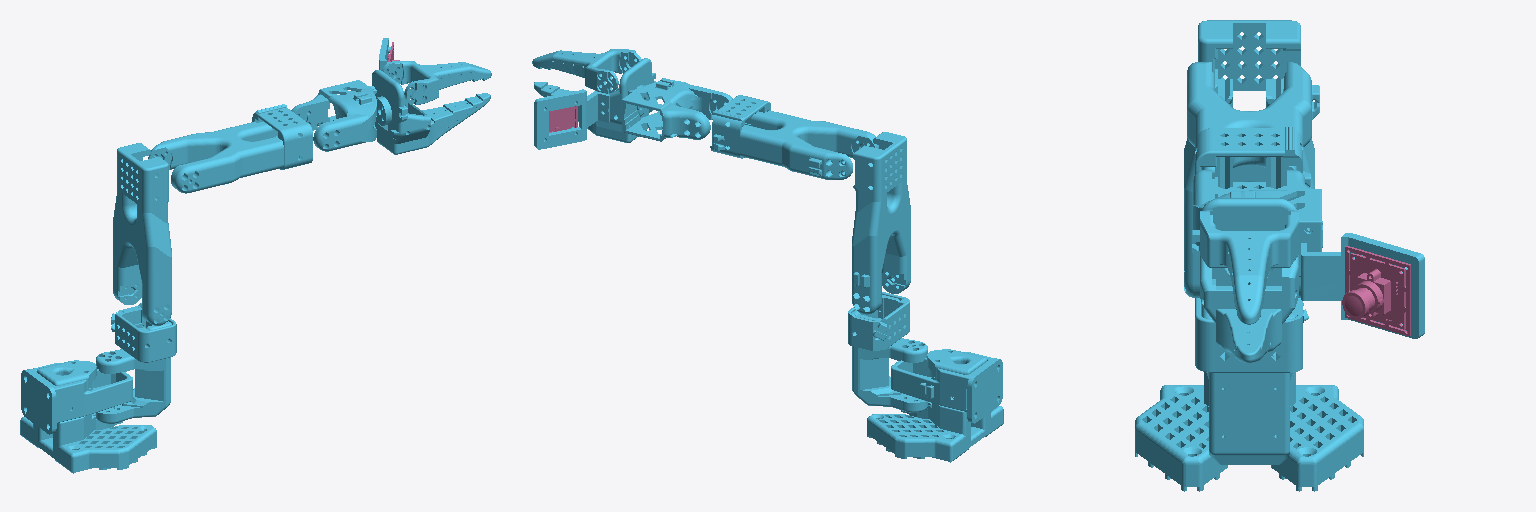
robot.urdf — SO-Arm:
<?xml version="1.0" ?>
<!-- =================================================================================== -->
<!-- |    This document was autogenerated by xacro from robot.xacro                    | -->
<!-- |    EDITING THIS FILE BY HAND IS NOT RECOMMENDED                                 | -->
<!-- =================================================================================== -->
<robot name="SO-Arm">
  <!-- Materials -->
  <material name="3d_printed">
    <color rgba="0.4 0.8196 0.945 1.0"/>
  </material>
  <material name="sts3215">
    <color rgba="0.1 0.1 0.1 1.0"/>
  </material>
  <joint name="base_joint" type="fixed">
    <origin xyz="0 0 0.0025"/>
    <parent link="base_link"/>
    <child link="base"/>
  </joint>
  <link name="base_link"/>
  <link name="base">
    <inertial>
      <origin xyz="-0.01371 0 0.03348"/>
      <mass value="0.147"/>
      <inertia ixx="0.000136117" ixy="4.59787e-07" ixz="9.75275e-08" iyy="0.000114686" iyz="-4.97151e-06" izz="0.000130364"/>
    </inertial>
    <visual>
      <geometry>
        <mesh filename="package://so_arm_description/meshes/so101/base_motor_holder.stl"/>
      </geometry>
      <material name="3d_printed"/>
    </visual>
    <collision>
      <geometry>
        <mesh filename="package://so_arm_description/meshes/so101/base_motor_holder.stl"/>
      </geometry>
    </collision>
    <visual>
      <geometry>
        <mesh filename="package://so_arm_description/meshes/so101/base.stl"/>
      </geometry>
      <material name="3d_printed"/>
    </visual>
    <collision>
      <geometry>
        <mesh filename="package://so_arm_description/meshes/so101/base.stl"/>
      </geometry>
    </collision>
    <visual>
      <geometry>
        <mesh filename="package://so_arm_description/meshes/so101/base_waveshare_mounting_plate.stl"/>
      </geometry>
      <material name="3d_printed"/>
    </visual>
    <collision>
      <geometry>
        <mesh filename="package://so_arm_description/meshes/so101/base_waveshare_mounting_plate.stl"/>
      </geometry>
    </collision>
  </link>
  <link name="motor1">
    <visual>
      <geometry>
        <mesh filename="package://so_arm_description/meshes/so101/sts3215_03a_v1.stl"/>
      </geometry>
      <material name="sts3215"/>
    </visual>
  </link>
  <joint name="motor1_joint" type="fixed">
    <origin xyz="0.0263345 0 0.0437"/>
    <parent link="base"/>
    <child link="motor1"/>
  </joint>
  <!-- Link shoulder -->
  <link name="shoulder">
    <inertial>
      <origin xyz="-0.0307604 -1.66727e-05 -0.0252713"/>
      <mass value="0.100006"/>
      <inertia ixx="8.3759e-05" ixy="7.55525e-08" ixz="-1.16342e-06" iyy="8.10403e-05" iyz="1.54663e-07" izz="2.39783e-05"/>
    </inertial>
    <!-- Part motor_holder_base_v1 -->
    <visual>
      <geometry>
        <mesh filename="package://so_arm_description/meshes/so101/motor_holder_base.stl"/>
      </geometry>
      <material name="3d_printed"/>
    </visual>
    <collision>
      <geometry>
        <mesh filename="package://so_arm_description/meshes/so101/motor_holder_base.stl"/>
      </geometry>
    </collision>
    <!-- Part rotation_pitch_so101_v1 -->
    <visual>
      <geometry>
        <mesh filename="package://so_arm_description/meshes/so101/rotation_pitch.stl"/>
      </geometry>
      <material name="3d_printed"/>
    </visual>
    <collision>
      <geometry>
        <mesh filename="package://so_arm_description/meshes/so101/rotation_pitch.stl"/>
      </geometry>
    </collision>
  </link>
  <link name="motor2">
    <visual>
      <geometry>
        <mesh filename="package://so_arm_description/meshes/so101/sts3215_03a_v1.stl"/>
      </geometry>
      <material name="sts3215"/>
    </visual>
  </link>
  <joint name="motor2_joint" type="fixed">
    <origin rpy="1.5708 1.5708 0" xyz="-0.0303992 0.000422241 -0.0417"/>
    <parent link="shoulder"/>
    <child link="motor2"/>
  </joint>
  <!-- Joint from base to shoulder -->
  <joint name="shoulder_pan" type="revolute">
    <origin rpy="-3.14159 0 3.14159" xyz="0.0388353 0 0.0624"/>
    <parent link="base"/>
    <child link="shoulder"/>
    <axis xyz="0 0 1"/>
    <limit effort="10" lower="-1.91986" upper="1.91986" velocity="10"/>
  </joint>
  <!-- Link upper_arm -->
  <link name="upper_arm">
    <inertial>
      <origin xyz="-0.0898471 -0.00838224 0.0184089"/>
      <mass value="0.103"/>
      <inertia ixx="4.08002e-05" ixy="-1.97819e-05" ixz="-4.03016e-08" iyy="0.000147318" iyz="8.97326e-09" izz="0.000142487"/>
    </inertial>
    <visual>
      <geometry>
        <mesh filename="package://so_arm_description/meshes/so101/upper_arm.stl"/>
      </geometry>
      <material name="3d_printed"/>
    </visual>
    <collision>
      <geometry>
        <mesh filename="package://so_arm_description/meshes/so101/upper_arm.stl"/>
      </geometry>
    </collision>
  </link>
  <link name="motor3">
    <visual>
      <geometry>
        <mesh filename="package://so_arm_description/meshes/so101/sts3215_03a_v1.stl"/>
      </geometry>
      <material name="sts3215"/>
    </visual>
  </link>
  <joint name="motor3_joint" type="fixed">
    <origin rpy="-3.14159 -6.8695e-16 -1.5708" xyz="-0.11257 -0.0155 0.0187"/>
    <parent link="upper_arm"/>
    <child link="motor3"/>
  </joint>
  <!-- Joint from shoulder to upper_arm -->
  <joint name="shoulder_lift" type="revolute">
    <origin rpy="-1.5708 -1.5708 0" xyz="-0.0303992 -0.0182778 -0.0542"/>
    <parent link="shoulder"/>
    <child link="upper_arm"/>
    <axis xyz="0 0 1"/>
    <limit effort="10" lower="-1.74533" upper="1.74533" velocity="10"/>
  </joint>
  <!-- Link lower_arm -->
  <link name="lower_arm">
    <inertial>
      <origin xyz="-0.0980701 0.00324376 0.0182831"/>
      <mass value="0.104"/>
      <inertia ixx="2.87438e-05" ixy="7.41152e-06" ixz="1.26409e-06" iyy="0.000159844" iyz="-4.90188e-08" izz="0.00014529"/>
    </inertial>
    <!-- Part under_arm_so101_v1 -->
    <visual>
      <geometry>
        <mesh filename="package://so_arm_description/meshes/so101/under_arm.stl"/>
      </geometry>
      <material name="3d_printed"/>
    </visual>
    <collision>
      <geometry>
        <mesh filename="package://so_arm_description/meshes/so101/under_arm.stl"/>
      </geometry>
    </collision>
    <!-- Part motor_holder_wrist_v1 -->
    <visual>
      <geometry>
        <mesh filename="package://so_arm_description/meshes/so101/motor_holder_wrist.stl"/>
      </geometry>
      <material name="3d_printed"/>
    </visual>
    <collision>
      <geometry>
        <mesh filename="package://so_arm_description/meshes/so101/motor_holder_wrist.stl"/>
      </geometry>
    </collision>
  </link>
  <link name="motor4">
    <visual>
      <geometry>
        <mesh filename="package://so_arm_description/meshes/so101/sts3215_03a_v1.stl"/>
      </geometry>
      <material name="sts3215"/>
    </visual>
  </link>
  <joint name="motor4_joint" type="fixed">
    <origin rpy="-3.14159 -3.58047e-15 -3.14159" xyz="-0.1224 0.0052 0.0187"/>
    <parent link="lower_arm"/>
    <child link="motor4"/>
  </joint>
  <!-- Joint from upper_arm to lower_arm -->
  <!-- Note: 5-degree calibration offset applied to joint limits -->
  <joint name="elbow_flex" type="revolute">
    <origin rpy="-1.22818e-15 5.75928e-16 1.5708" xyz="-0.11257 -0.028 2.46331e-16"/>
    <parent link="upper_arm"/>
    <child link="lower_arm"/>
    <axis xyz="0 0 1"/>
    <limit effort="10" lower="-1.69" upper="1.69" velocity="10"/>
  </joint>
  <!-- Link wrist -->
  <link name="wrist">
    <inertial>
      <origin xyz="-0.000103312 -0.0386143 0.0281156"/>
      <mass value="0.079"/>
      <inertia ixx="3.68263e-05" ixy="1.7893e-08" ixz="-5.28128e-08" iyy="2.5391e-05" iyz="3.6412e-06" izz="2.1e-05"/>
    </inertial>
    <!-- Part wrist_roll_pitch_so101_v2 -->
    <visual>
      <geometry>
        <mesh filename="package://so_arm_description/meshes/so101/wrist_roll_pitch.stl"/>
      </geometry>
      <material name="3d_printed"/>
    </visual>
    <collision>
      <geometry>
        <mesh filename="package://so_arm_description/meshes/so101/wrist_roll_pitch.stl"/>
      </geometry>
    </collision>
  </link>
  <link name="motor5">
    <visual>
      <geometry>
        <mesh filename="package://so_arm_description/meshes/so101/sts3215_03a_v1.stl"/>
      </geometry>
      <material name="sts3215"/>
    </visual>
  </link>
  <joint name="motor5_joint" type="fixed">
    <origin rpy="1.5708 1.5708 0" xyz="5.55112e-17 -0.0424 0.0306"/>
    <parent link="wrist"/>
    <child link="motor5"/>
  </joint>
  <!-- Joint from lower_arm to wrist -->
  <joint name="wrist_flex" type="revolute">
    <origin rpy="3.2474e-15 2.86219e-15 -1.5708" xyz="-0.1349 0.0052 1.65232e-16"/>
    <parent link="lower_arm"/>
    <child link="wrist"/>
    <axis xyz="0 0 1"/>
    <limit effort="10" lower="-1.65806" upper="1.65806" velocity="10"/>
  </joint>
  <!-- Link gripper -->
  <link name="gripper">
    <inertial>
      <origin xyz="0.000213627 0.000245138 -0.025187"/>
      <mass value="0.087"/>
      <inertia ixx="2.75087e-05" ixy="-3.35241e-07" ixz="-5.7352e-06" iyy="4.33657e-05" iyz="-5.17847e-08" izz="3.45059e-05"/>
    </inertial>
    <!-- Part wrist_roll_follower_so101_v1 -->
    <visual>
      <geometry>
        <mesh filename="package://so_arm_description/meshes/so101/wrist_roll_follower/wrist_roll_follower.stl"/>
      </geometry>
      <material name="3d_printed"/>
    </visual>
    <collision>
      <geometry>
        <mesh filename="package://so_arm_description/meshes/so101/wrist_roll_follower/wrist_roll_follower_collision_0.obj"/>
      </geometry>
    </collision>
    <collision>
      <geometry>
        <mesh filename="package://so_arm_description/meshes/so101/wrist_roll_follower/wrist_roll_follower_collision_1.obj"/>
      </geometry>
    </collision>
    <collision>
      <geometry>
        <mesh filename="package://so_arm_description/meshes/so101/wrist_roll_follower/wrist_roll_follower_collision_2.obj"/>
      </geometry>
    </collision>
  </link>
  <link name="motor6">
    <visual>
      <geometry>
        <mesh filename="package://so_arm_description/meshes/so101/sts3215_03a_v1.stl"/>
      </geometry>
      <material name="sts3215"/>
    </visual>
  </link>
  <joint name="motor6_joint" type="fixed">
    <origin rpy="-1.5708 -5.55112e-17 -1.38213e-14" xyz="0.0077 0.0001 -0.0234"/>
    <parent link="gripper"/>
    <child link="motor6"/>
  </joint>
  <link name="camera_support">
    <visual>
      <geometry>
        <mesh filename="package://so_arm_description/meshes/so101/camera_support.stl"/>
      </geometry>
      <material name="3d_printed"/>
    </visual>
    <collision>
      <geometry>
        <mesh filename="package://so_arm_description/meshes/so101/camera_support.stl"/>
      </geometry>
    </collision>
  </link>
  <joint name="camera_support_joint" type="fixed">
    <origin rpy="-1.5708 1.5708 0" xyz="-0.001 0.025 -0.023"/>
    <parent link="gripper"/>
    <child link="camera_support"/>
  </joint>
  <link name="camera">
    <visual>
      <geometry>
        <mesh filename="package://so_arm_description/meshes/so101/camera.obj"/>
      </geometry>
    </visual>
    <collision>
      <geometry>
        <mesh filename="package://so_arm_description/meshes/so101/camera.obj"/>
      </geometry>
    </collision>
  </link>
  <joint name="camera_joint" type="fixed">
    <origin rpy="0 0.611 0" xyz="0.024 0 0.0375"/>
    <parent link="camera_support"/>
    <child link="camera"/>
  </joint>
  <link name="camera_len"/>
  <joint name="camera_len_joint" type="fixed">
    <origin xyz="0.02 0 0"/>
    <parent link="camera"/>
    <child link="camera_len"/>
  </joint>
  <!-- Joint from wrist to gripper -->
  <joint name="wrist_roll" type="revolute">
    <origin rpy="1.5708 -9.38083e-08 3.14159" xyz="0 -0.0611 0.0181"/>
    <parent link="wrist"/>
    <child link="gripper"/>
    <axis xyz="0 0 1"/>
    <limit effort="10" lower="-2.74385" upper="2.84121" velocity="10"/>
  </joint>
  <link name="moving_jaw">
    <inertial>
      <origin xyz="-0.00157495 -0.0300244 0.0192755"/>
      <mass value="0.012"/>
      <inertia ixx="6.61427e-06" ixy="-3.19807e-07" ixz="-5.90717e-09" iyy="1.89032e-06" iyz="-1.09945e-07" izz="5.28738e-06"/>
    </inertial>
    <visual>
      <geometry>
        <mesh filename="package://so_arm_description/meshes/so101/moving_jaw/moving_jaw.stl"/>
      </geometry>
      <material name="3d_printed"/>
    </visual>
    <collision>
      <geometry>
        <mesh filename="package://so_arm_description/meshes/so101/moving_jaw/moving_jaw_collision_0.obj"/>
      </geometry>
    </collision>
    <collision>
      <geometry>
        <mesh filename="package://so_arm_description/meshes/so101/moving_jaw/moving_jaw_collision_1.obj"/>
      </geometry>
    </collision>
    <collision>
      <geometry>
        <mesh filename="package://so_arm_description/meshes/so101/moving_jaw/moving_jaw_collision_2.obj"/>
      </geometry>
    </collision>
  </link>
  <joint name="gripper" type="revolute">
    <origin rpy="1.5708 -5.14108e-17 -1.38655e-14" xyz="0.0202 0.0188 -0.0234"/>
    <parent link="gripper"/>
    <child link="moving_jaw"/>
    <axis xyz="0 0 1"/>
    <limit effort="10" lower="-0.174533" upper="1.74533" velocity="10"/>
  </joint>
  <!-- Frame gripperframe (dummy link + fixed joint) -->
  <link name="fixed_jaw_tip"/>
  <joint name="fixed_jaw_tip_joint" type="fixed">
    <origin rpy="0 1.5708 0" xyz="-0.0079 -0.000218121 -0.0981274"/>
    <parent link="gripper"/>
    <child link="fixed_jaw_tip"/>
  </joint>
  <joint name="moving_Jaw_tip_joint" type="fixed">
    <origin xyz="-0.01 -0.0745 0.019"/>
    <parent link="moving_jaw"/>
    <child link="moving_jaw_tip"/>
  </joint>
  <link name="moving_jaw_tip"/>
</robot>

--- What the picture shows (computed from the rendered views, not written in the file) ---
Views: 3 orthographic renders of the robot side by side, from view 1: azimuth 30°, elevation 25°; view 2: azimuth 150°, elevation 25°; view 3: azimuth 270°, elevation 25°.
Robot: SO-Arm — 19 links, 18 joints (6 revolute, 12 fixed); root link base_link; default pose: all joints at 0.
Links seen in each view (by area): view 1: base, upper_arm, lower_arm, shoulder, gripper, wrist, moving_jaw; view 2: base, upper_arm, lower_arm, shoulder, wrist, camera_support, moving_jaw, gripper, camera; view 3: base, lower_arm, shoulder, upper_arm, gripper, moving_jaw, camera, camera_support, wrist.
Boxes of the visible links, left/top/right/bottom form: base: left=20, top=360, right=156, bottom=473; upper_arm: left=113, top=143, right=171, bottom=325; lower_arm: left=148, top=104, right=312, bottom=193; shoulder: left=96, top=303, right=176, bottom=423; gripper: left=372, top=70, right=490, bottom=154; wrist: left=291, top=80, right=376, bottom=151; moving_jaw: left=381, top=61, right=491, bottom=104; base: left=867, top=349, right=1003, bottom=462; upper_arm: left=852, top=132, right=910, bottom=314; lower_arm: left=710, top=95, right=878, bottom=179; shoulder: left=848, top=292, right=927, bottom=412; wrist: left=622, top=78, right=732, bottom=141; camera_support: left=534, top=89, right=609, bottom=149; moving_jaw: left=532, top=49, right=641, bottom=93; gripper: left=534, top=58, right=655, bottom=142; camera: left=549, top=106, right=577, bottom=132; base: left=1135, top=372, right=1363, bottom=491; lower_arm: left=1187, top=62, right=1319, bottom=197; shoulder: left=1195, top=298, right=1308, bottom=464; upper_arm: left=1184, top=20, right=1322, bottom=297; gripper: left=1192, top=198, right=1298, bottom=362; moving_jaw: left=1200, top=210, right=1298, bottom=324; camera: left=1342, top=246, right=1410, bottom=336; camera_support: left=1301, top=233, right=1424, bottom=338; wrist: left=1193, top=170, right=1321, bottom=276.
Size in the robot's own frame: 0.4295 by 0.1403 by 0.267 metres.
Meshes: 14 distinct files referenced, 13 mesh visuals loaded (12 binary STL, 1 OBJ); not drawn: 6 (reference not matched to a file when rendering).